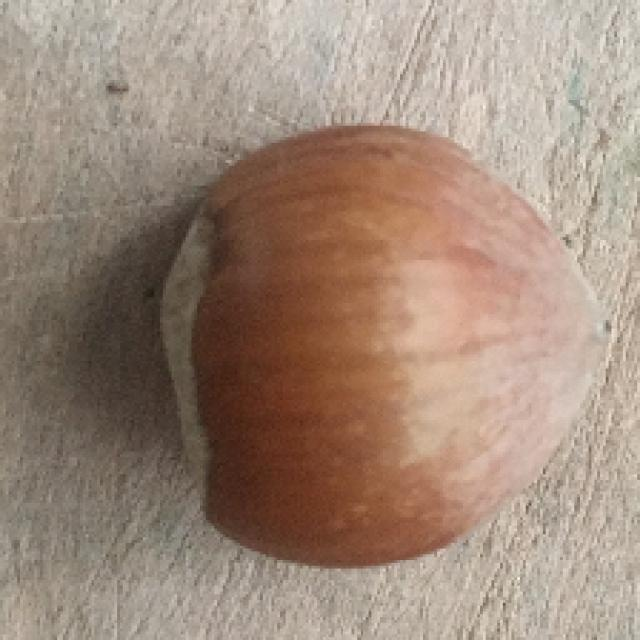qualityHazelnut: (145, 115, 614, 580)
